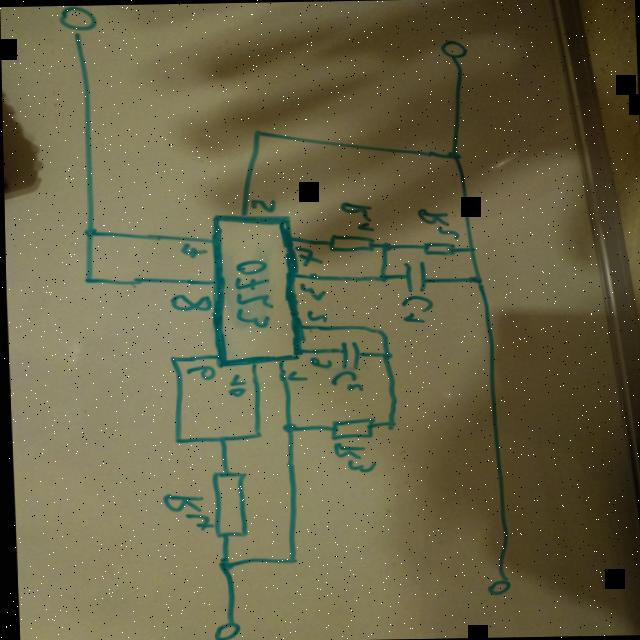capacitor: (393, 259, 434, 293), (330, 338, 364, 369)
junction: (212, 554, 233, 573), (79, 222, 99, 240), (76, 270, 95, 286), (277, 419, 297, 434), (465, 270, 483, 284), (367, 322, 388, 334), (442, 147, 461, 160), (376, 238, 392, 252), (376, 348, 394, 360), (167, 432, 182, 444), (212, 432, 228, 443), (280, 554, 297, 564), (373, 270, 387, 282), (382, 416, 395, 428), (247, 428, 261, 438), (164, 354, 178, 364), (249, 126, 262, 136), (464, 244, 476, 252)
resistor: (205, 466, 249, 540), (321, 230, 375, 258), (322, 415, 376, 439), (416, 237, 459, 258)
terminal: (51, 3, 104, 36), (478, 572, 512, 598), (438, 36, 472, 62), (206, 616, 240, 640)
text: (229, 255, 274, 330), (158, 489, 212, 534), (327, 438, 377, 478), (413, 203, 460, 240), (335, 198, 378, 230), (397, 292, 436, 324), (166, 289, 210, 315), (326, 367, 363, 393), (292, 243, 323, 268), (295, 280, 325, 300), (181, 364, 215, 381), (176, 240, 206, 258), (247, 194, 277, 212), (224, 372, 245, 397), (302, 306, 326, 322), (306, 354, 330, 368), (282, 368, 306, 382)
